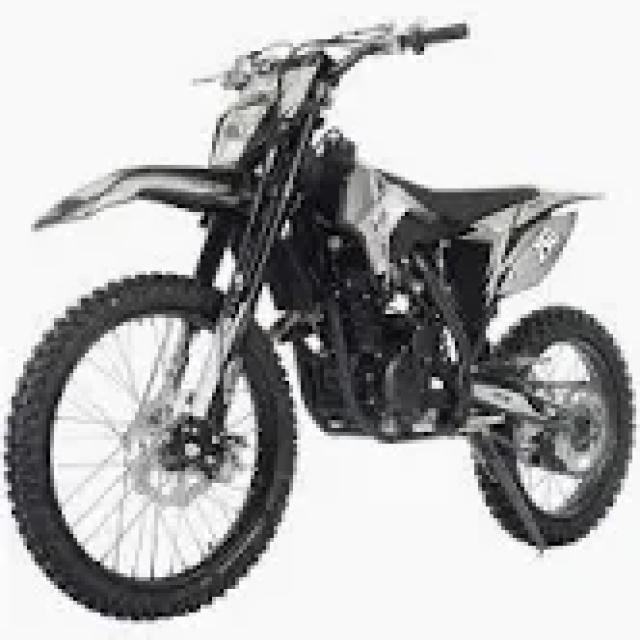motorcycle: (0, 11, 632, 620)
